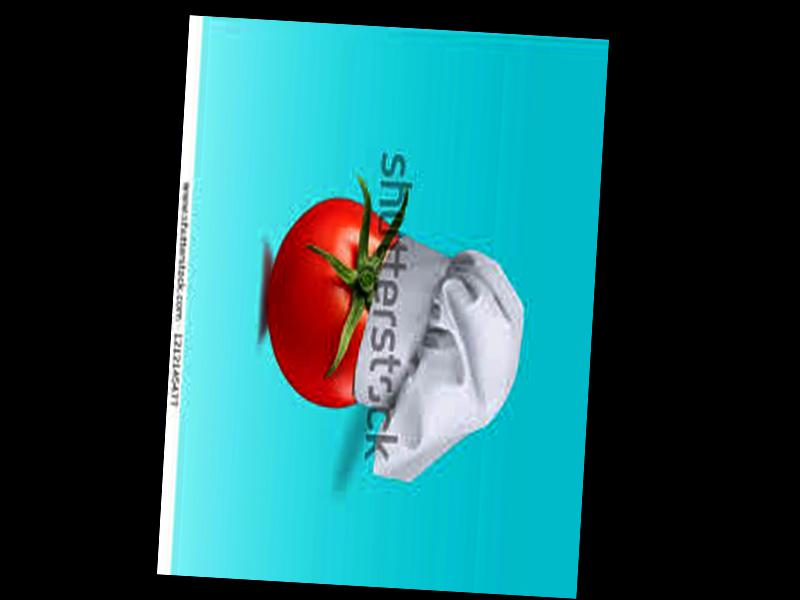Tomato: (264, 198, 401, 410)
